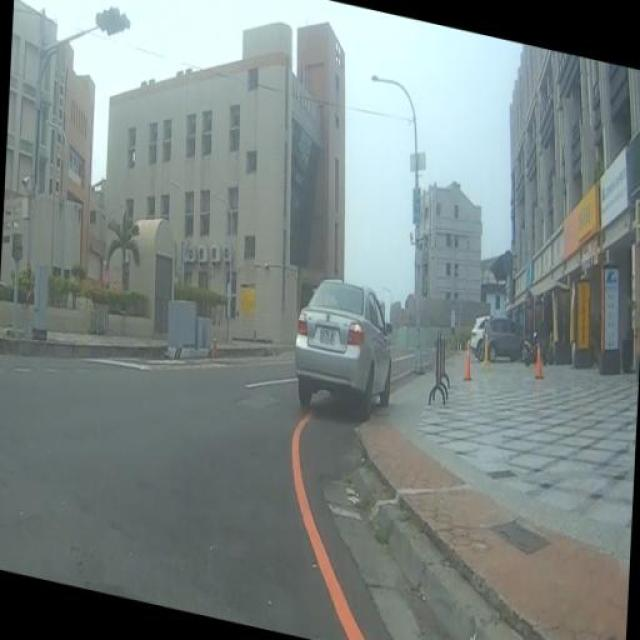illegalparking: (254, 264, 428, 433)
